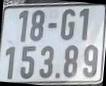-: (48, 23, 56, 28)
.: (55, 73, 60, 78)
1: (6, 46, 15, 79), (19, 10, 28, 41), (80, 9, 88, 40)
3: (40, 46, 53, 78)
5: (21, 46, 35, 78)
8: (65, 45, 78, 78), (31, 10, 44, 40)
9: (84, 45, 98, 77)
G: (61, 9, 75, 40)
